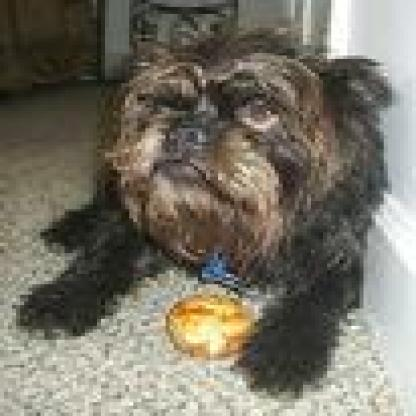affenpinscher: (16, 24, 384, 395)
